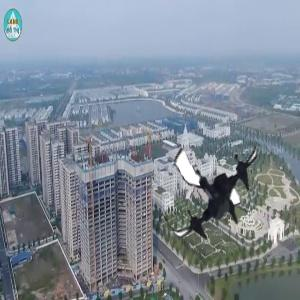drone: (157, 133, 272, 248)
